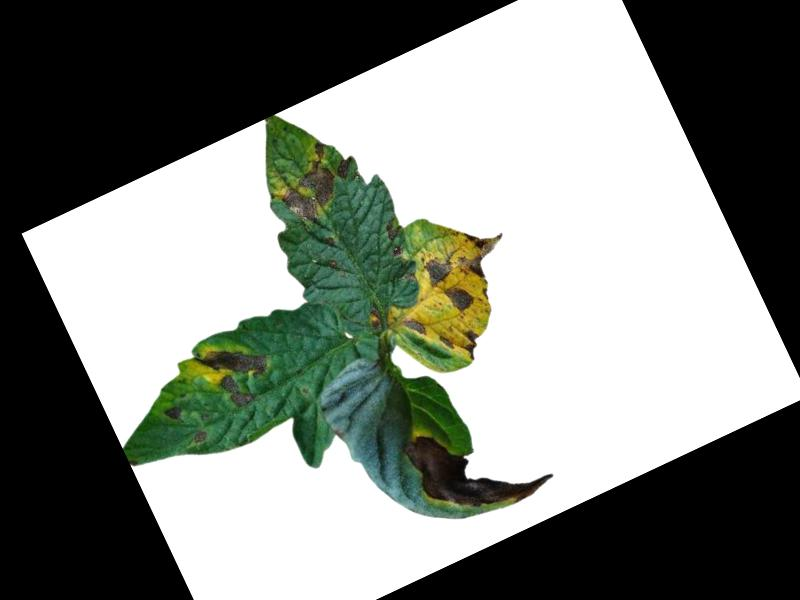Early_blight: (400, 391, 557, 537), (265, 139, 353, 232), (194, 328, 282, 417), (445, 216, 520, 286), (418, 251, 457, 290), (442, 278, 479, 317), (379, 219, 411, 260), (456, 327, 488, 363), (332, 152, 361, 181), (401, 313, 429, 343), (162, 401, 185, 425), (439, 331, 458, 354), (366, 307, 384, 330), (192, 430, 210, 445)
